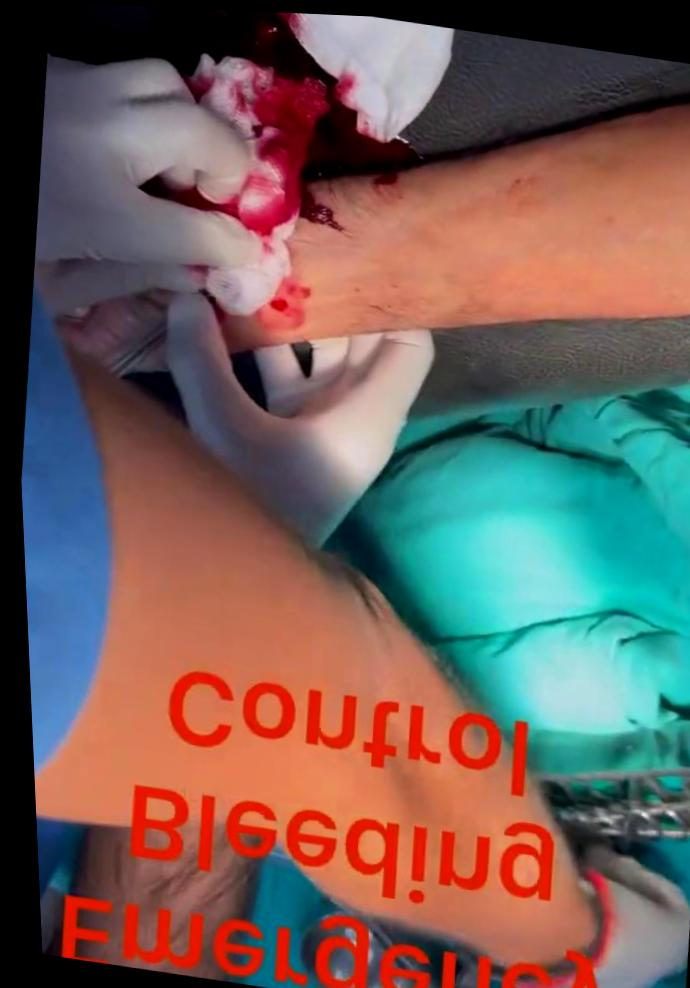Fire: (202, 9, 419, 235), (184, 51, 250, 128), (253, 269, 308, 334), (339, 67, 352, 93)
